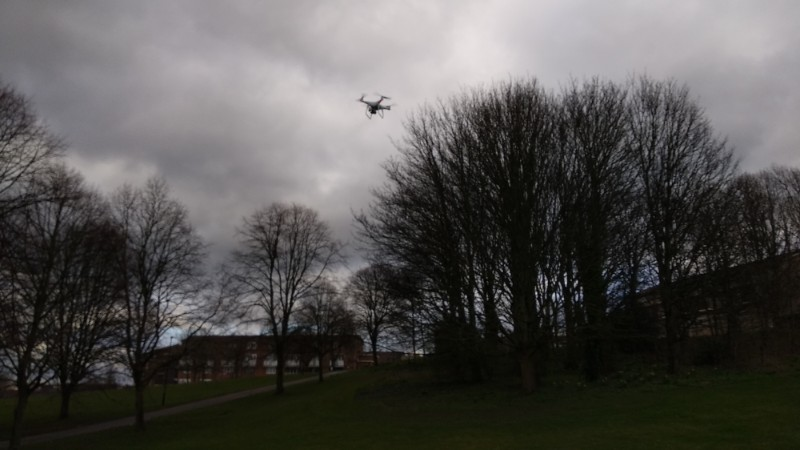drone: (356, 93, 396, 119)
